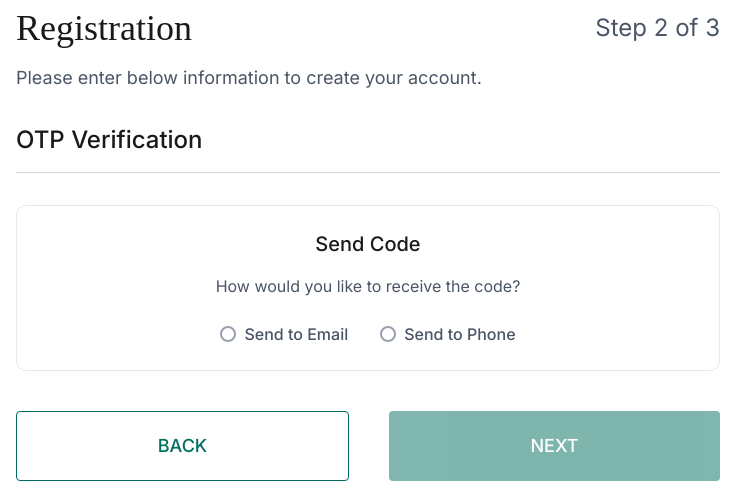
it: Signup Flow Integration Tests › Form Validation Integration › should validate OTP method selection before proceeding
Expected: the button with test id "send-otp-button" is disabled, [389,411,720,481]
# Select method
Step 1. Click the element with test id "email-otp-option" → (284, 334), box [220,322,348,346]
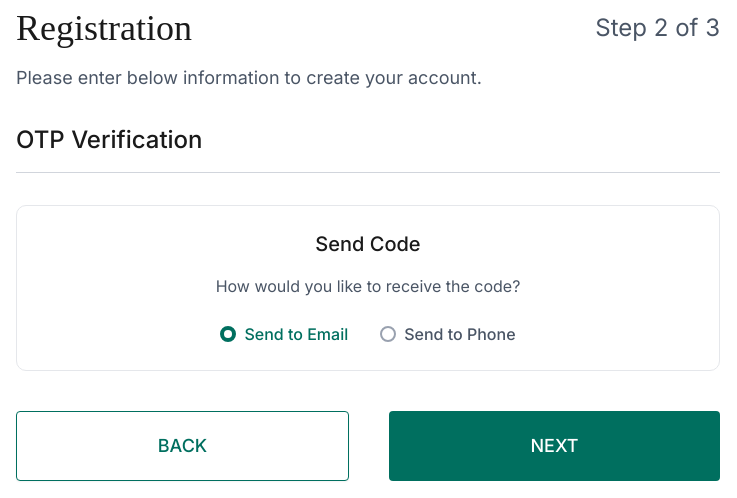
Expected: the button with test id "send-otp-button" is enabled, [389,411,720,481]
